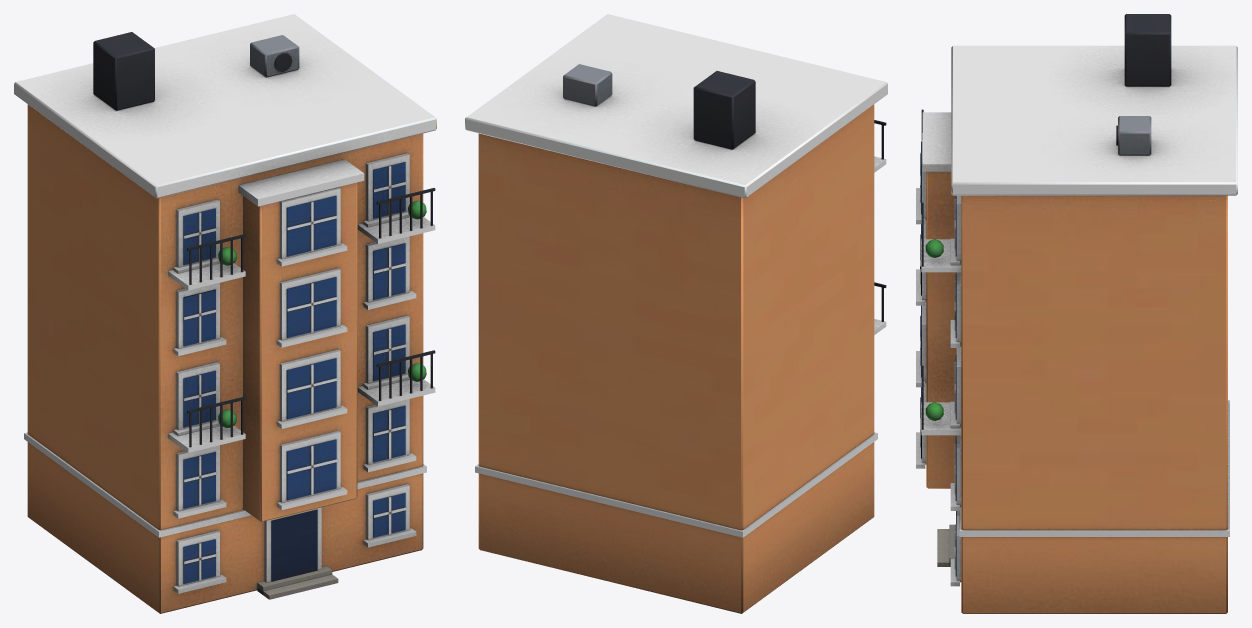
Rendered from apart_naranja.glb.
The picture shows the model from 3 angles, left to right: view 1: azimuth 30°, elevation 25°; view 2: azimuth 150°, elevation 25°; view 3: azimuth 270°, elevation 25°; orthographic projection.
Parts seen in each view (by area): view 1: apart_naranja; view 2: apart_naranja; view 3: apart_naranja.
Part boxes in pixels (box(x1,y1,x2,y2)): apart_naranja: box(14, 14, 436, 613); apart_naranja: box(465, 14, 887, 613); apart_naranja: box(916, 14, 1237, 613).
Bounding box in the file's own units: 4.9 × 8.12 × 4.83.
Materials: 1 (1 with a texture image).
